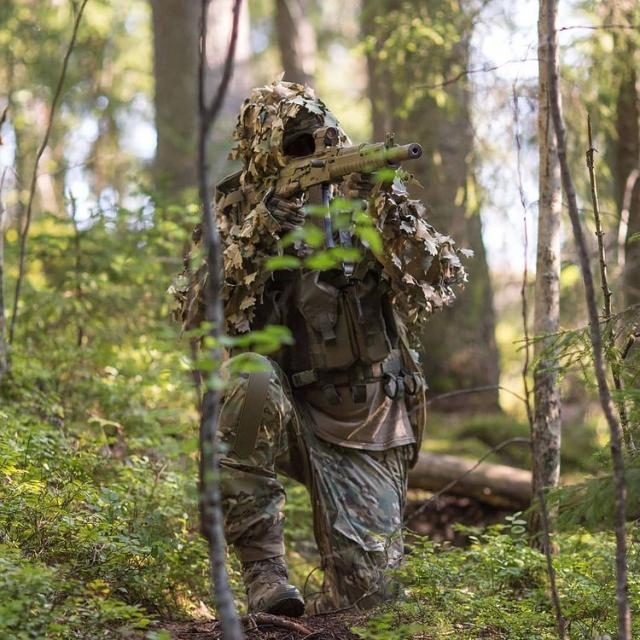Human: (166, 68, 467, 615)
